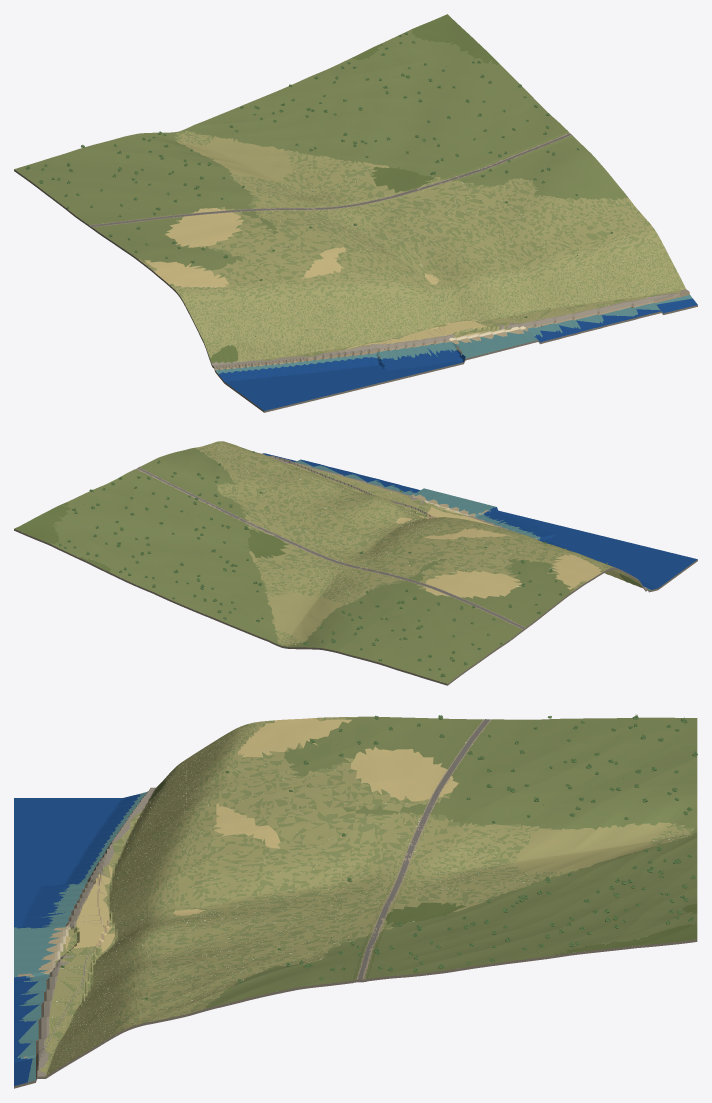
The model's file is parca_+2_-9-yakin.glb.
3 renders of one model, top to bottom at view 1: azimuth 30°, elevation 25°; view 2: azimuth 150°, elevation 25°; view 3: azimuth 270°, elevation 25°, orthographic. The views are drawn at different scales.
Parts seen in each view (by area): view 1: parca_+2_-9_arazi, parca_+2_-9_bitkiler, parca_+2_-9_yollar; view 2: parca_+2_-9_arazi, parca_+2_-9_bitkiler, parca_+2_-9_yollar; view 3: parca_+2_-9_arazi, parca_+2_-9_bitkiler, parca_+2_-9_yollar.
Part boxes in pixels (x1=…): parca_+2_-9_arazi: x1=14, y1=14, x2=697, y2=412; parca_+2_-9_bitkiler: x1=26, y1=32, x2=652, y2=350; parca_+2_-9_yollar: x1=90, y1=133, x2=571, y2=226; parca_+2_-9_arazi: x1=14, y1=441, x2=697, y2=685; parca_+2_-9_bitkiler: x1=59, y1=451, x2=608, y2=677; parca_+2_-9_yollar: x1=137, y1=467, x2=524, y2=628; parca_+2_-9_arazi: x1=14, y1=716, x2=697, y2=1088; parca_+2_-9_bitkiler: x1=57, y1=714, x2=697, y2=1049; parca_+2_-9_yollar: x1=358, y1=719, x2=489, y2=979.
Bounding box in the file's own units: 1003 × 242 × 1001.
